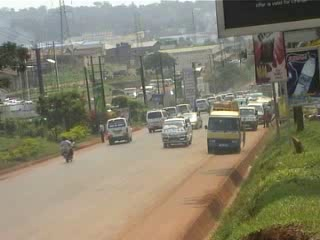Car: (177, 108, 204, 129)
Motorcycle: (58, 135, 76, 162)
